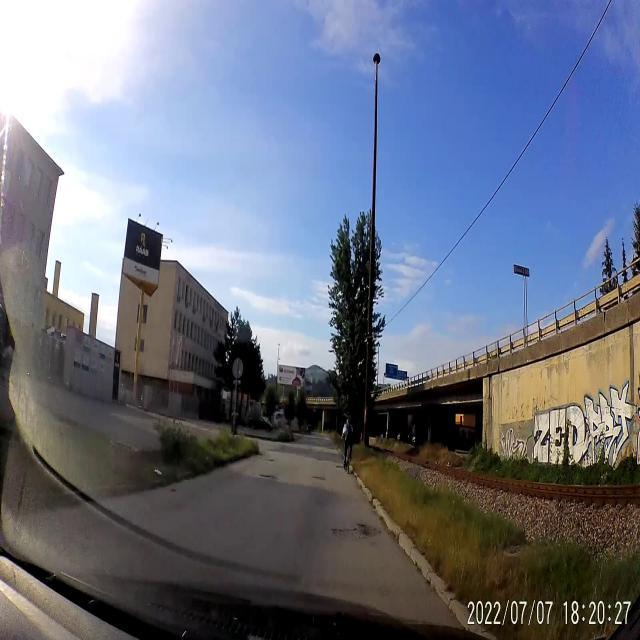Pothole: (329, 516, 380, 546), (258, 468, 281, 484), (310, 474, 328, 484), (266, 458, 278, 466), (268, 448, 283, 453), (334, 464, 342, 469)
